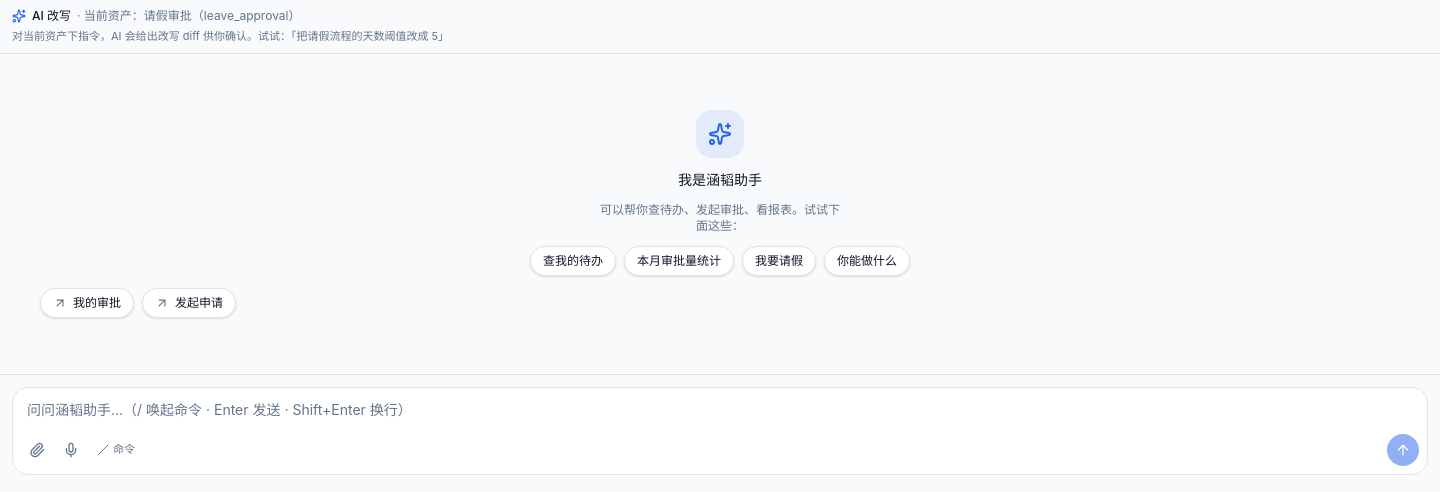
Scenario: Dev Studio 右栏 AI 助手 › 发送 → pageContext {featureCode:dev-studio, entityType, entityId}
Type "把天数阈值改成 5" into the text box with placeholder "问问涵韬助手…（/ 唤起命令 · Enter 发送 · Shift+Enter 换行）".
click(720, 410); type("把天数阈值改成 5")  # box [13,388,1427,432]
Then press Enter
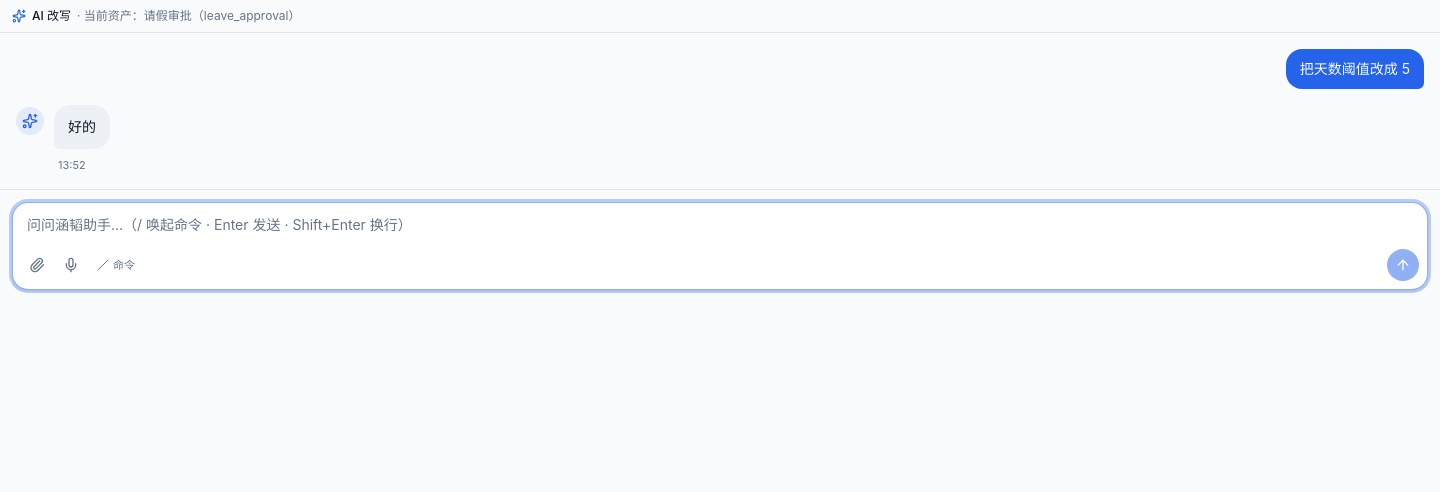
Check: the text "把天数阈值改成 5" is shown, box [1286,49,1424,89]
